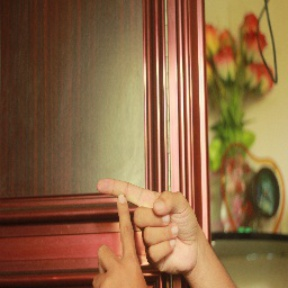T: (80, 173, 178, 283)
